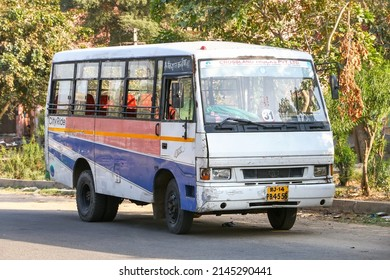bus: (45, 40, 335, 234)
